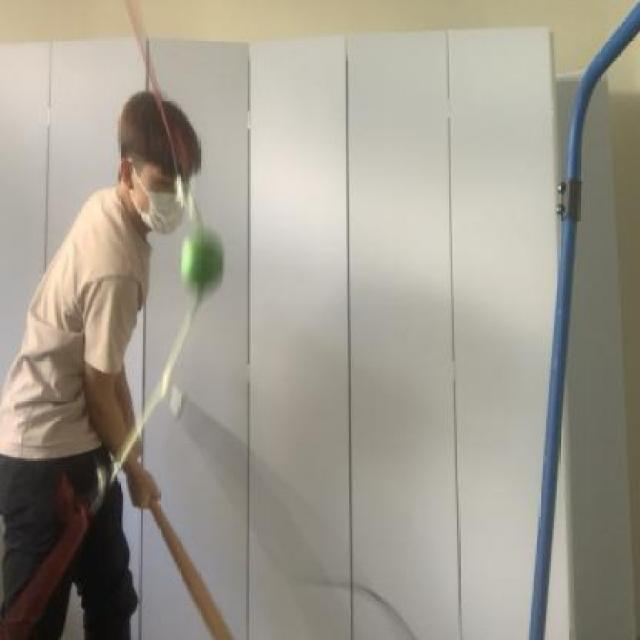baseball: (174, 218, 226, 296)
